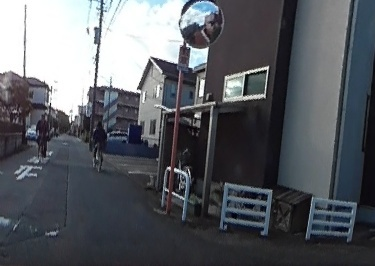person: (92, 120, 107, 164), (36, 113, 47, 152)
